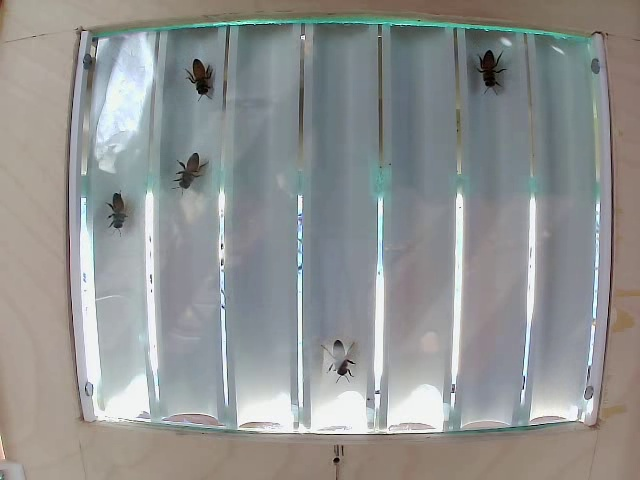bee: (180, 52, 223, 105), (471, 52, 515, 102), (317, 334, 356, 382), (97, 189, 133, 232), (169, 152, 206, 187)
